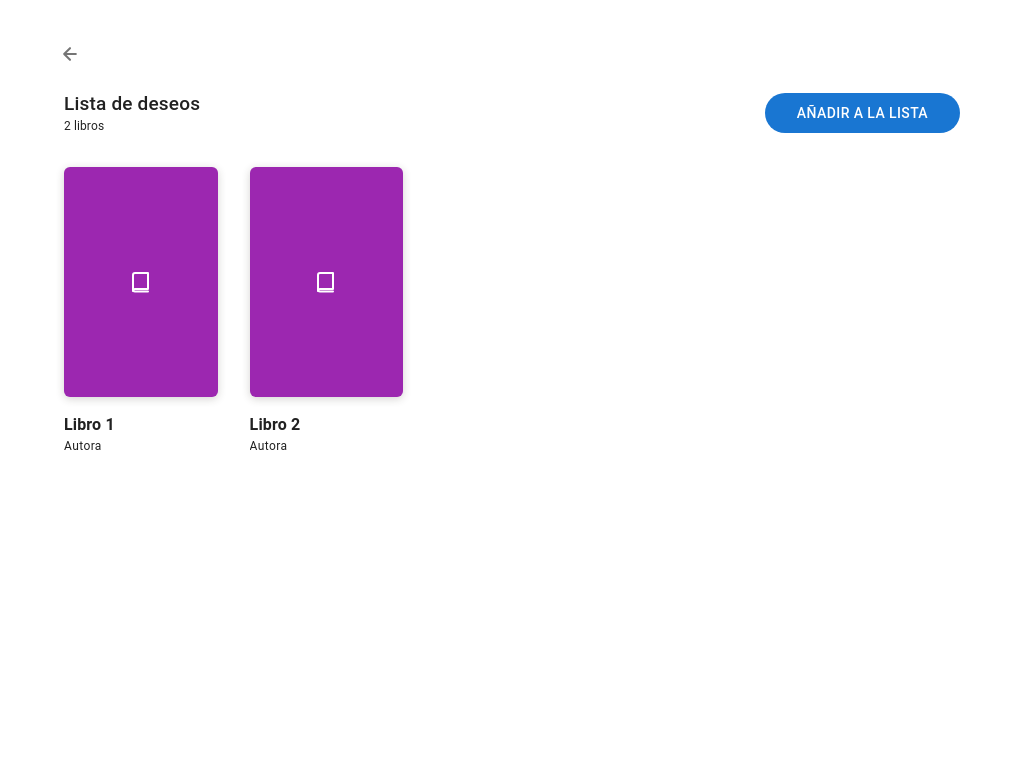
Test: Given the wishlist page › When the user taps a cover › Then the sheet of that book opens
Click the button with aria-label "Libro 2, Autora": (326, 312) x1=250 y1=167 x2=403 y2=457
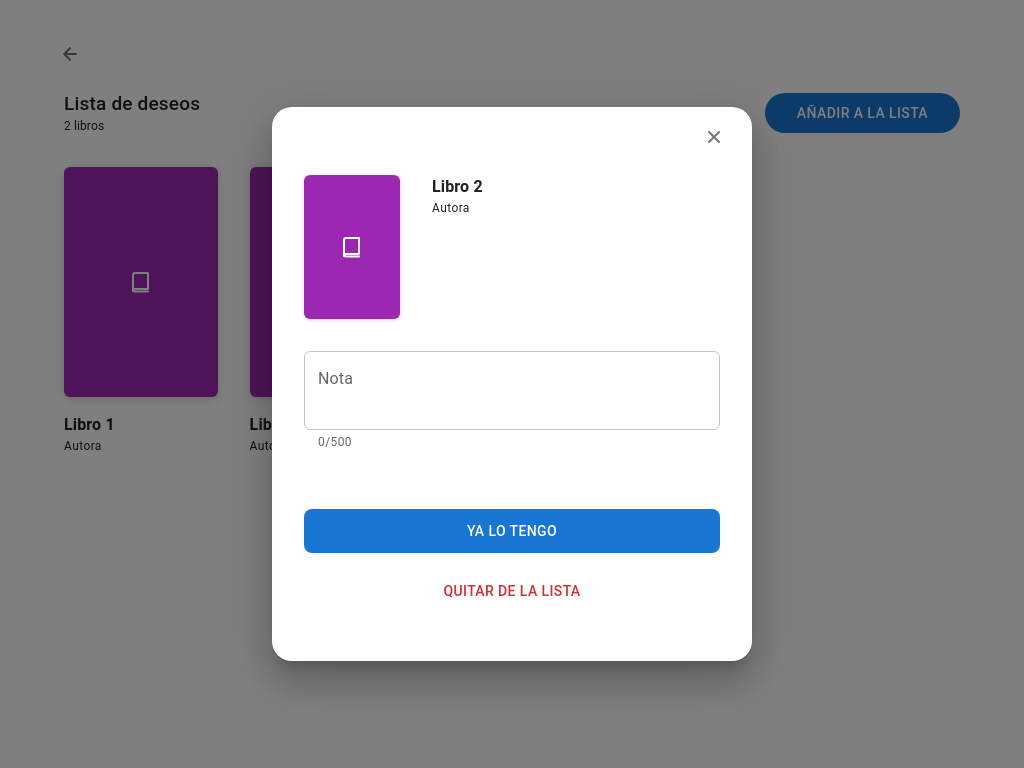
Now the dialog "Libro 2" is shown, box x1=272 y1=107 x2=752 y2=661
Now the button "Ya lo tengo" is shown, box x1=304 y1=509 x2=720 y2=553
